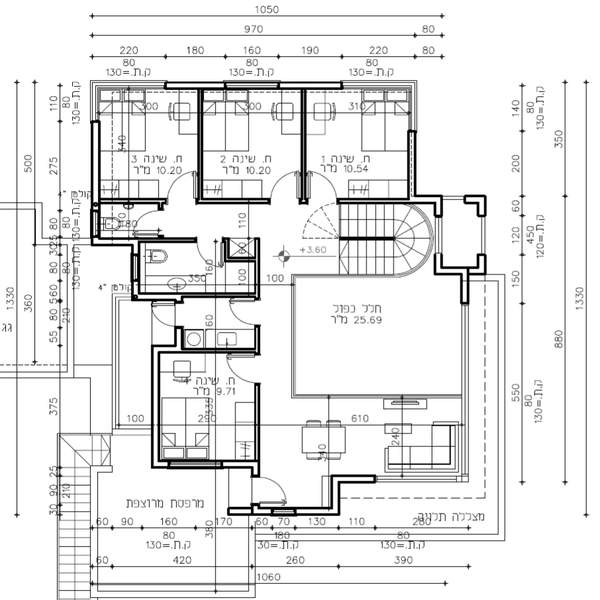door: (160, 163, 203, 203), (307, 159, 338, 208), (266, 167, 303, 206), (219, 351, 260, 384), (229, 295, 263, 330), (249, 473, 287, 504), (143, 302, 180, 331), (139, 211, 166, 234)
room: (87, 71, 207, 205), (197, 78, 309, 213), (150, 343, 265, 473), (304, 79, 414, 197), (132, 233, 263, 299), (172, 287, 269, 354)
wall: (193, 90, 211, 204), (151, 342, 167, 470), (90, 123, 106, 211), (195, 194, 271, 209), (253, 385, 266, 463), (100, 195, 164, 210), (297, 86, 304, 200), (281, 80, 340, 93), (142, 234, 196, 248), (124, 293, 181, 306), (91, 236, 144, 249), (437, 265, 491, 277), (460, 263, 475, 305), (407, 194, 444, 210), (222, 458, 260, 471), (410, 129, 417, 199), (466, 193, 489, 208)
